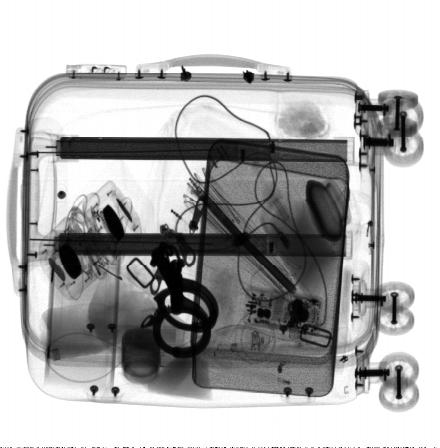HandCuffs: (146, 238, 219, 359)
